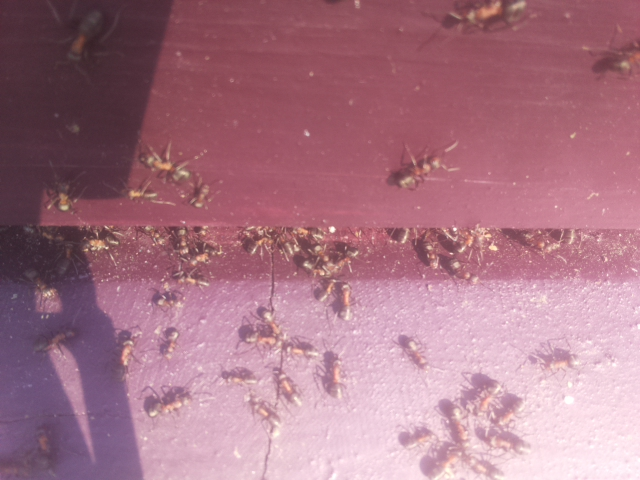ant: (57, 0, 112, 75), (17, 256, 67, 325), (384, 148, 450, 196), (132, 142, 198, 188), (387, 329, 436, 377), (436, 0, 505, 32), (139, 386, 198, 423), (586, 42, 640, 81), (27, 322, 83, 357), (110, 329, 142, 388), (436, 391, 467, 448), (247, 395, 284, 442), (250, 300, 287, 341), (29, 428, 59, 474), (275, 365, 305, 410), (48, 173, 79, 216), (393, 422, 437, 451), (412, 230, 442, 270), (160, 322, 181, 367), (187, 177, 213, 212), (334, 279, 356, 320), (327, 354, 345, 404), (123, 181, 158, 206), (171, 269, 208, 289), (143, 225, 164, 243)
